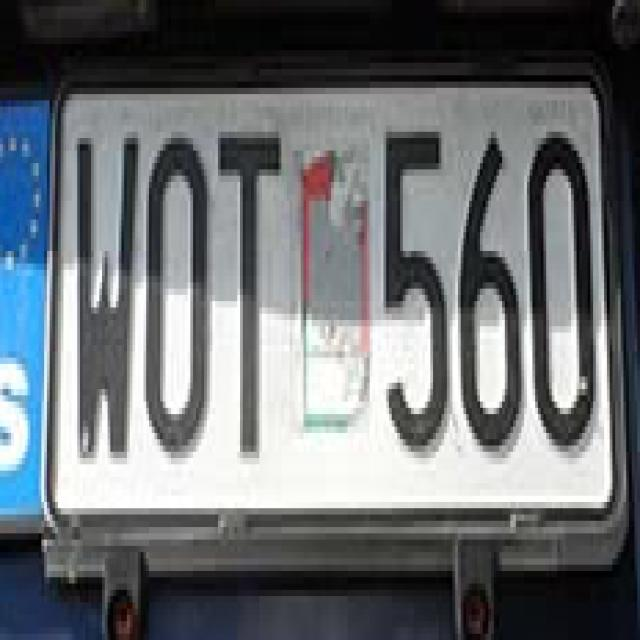EU: (0, 88, 610, 519)
Suede: (0, 99, 52, 514)
